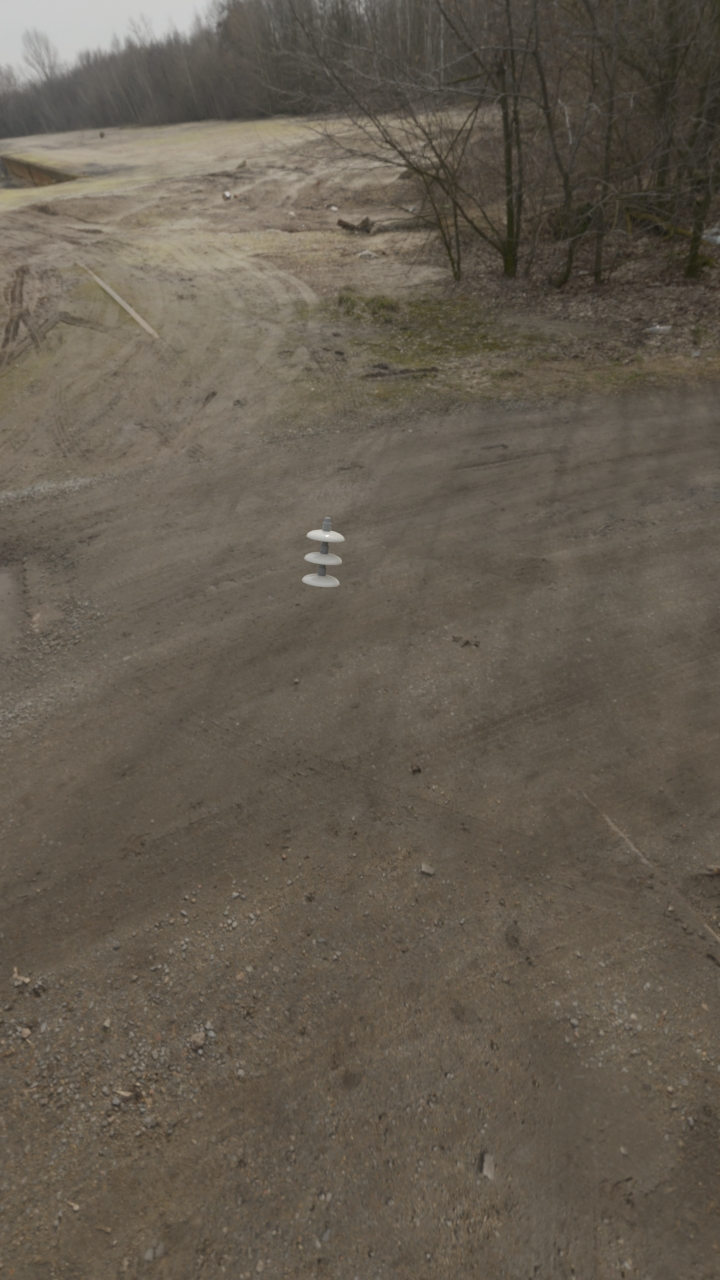ceramicinsulators: (303, 517, 344, 588)
